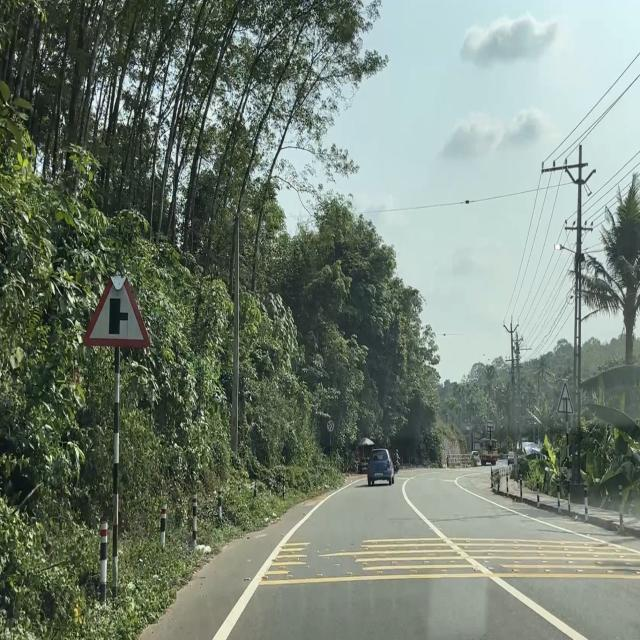OVERTAKING_PROHIBITED: (326, 419, 335, 433)
SIDE_ROAD_RIGHT: (81, 266, 152, 351)
